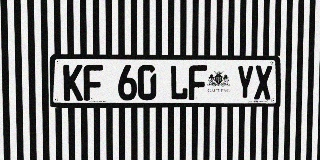0: (138, 65, 156, 100)
6: (118, 65, 137, 100)
F: (83, 65, 103, 101), (189, 65, 207, 100)
K: (63, 65, 83, 101)
L: (170, 65, 188, 100)
X: (254, 65, 272, 100)
Y: (236, 65, 254, 100)
